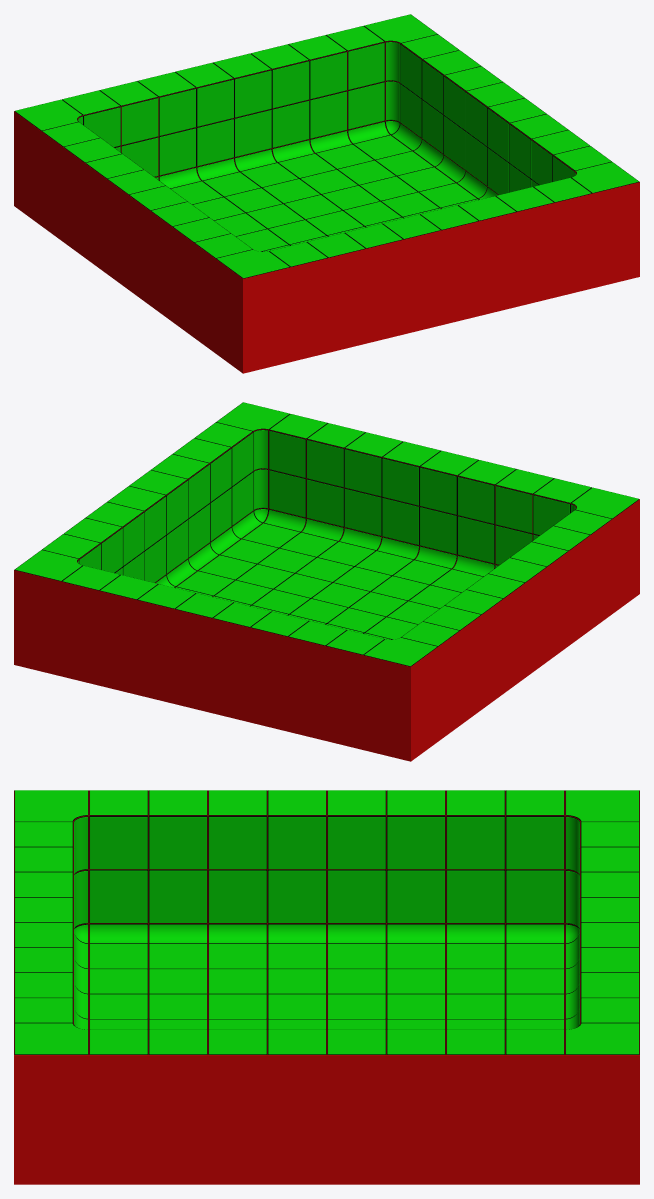
File: SM_Room_01.FBX
The picture shows the model from 3 angles, top to bottom: view 1: azimuth 30°, elevation 25°; view 2: azimuth 150°, elevation 25°; view 3: azimuth 270°, elevation 25°; orthographic projection. The views are drawn at different scales.
Visible parts, largest first — view 1: SM_Room_01; view 2: SM_Room_01; view 3: SM_Room_01.
Part boxes in pixels (x1,y1,x2,y2): SM_Room_01: (14,14,639,373); SM_Room_01: (14,402,639,761); SM_Room_01: (14,790,639,1184).
Size of what is drawn, in the model's own units: 2630 by 2630 by 603.
